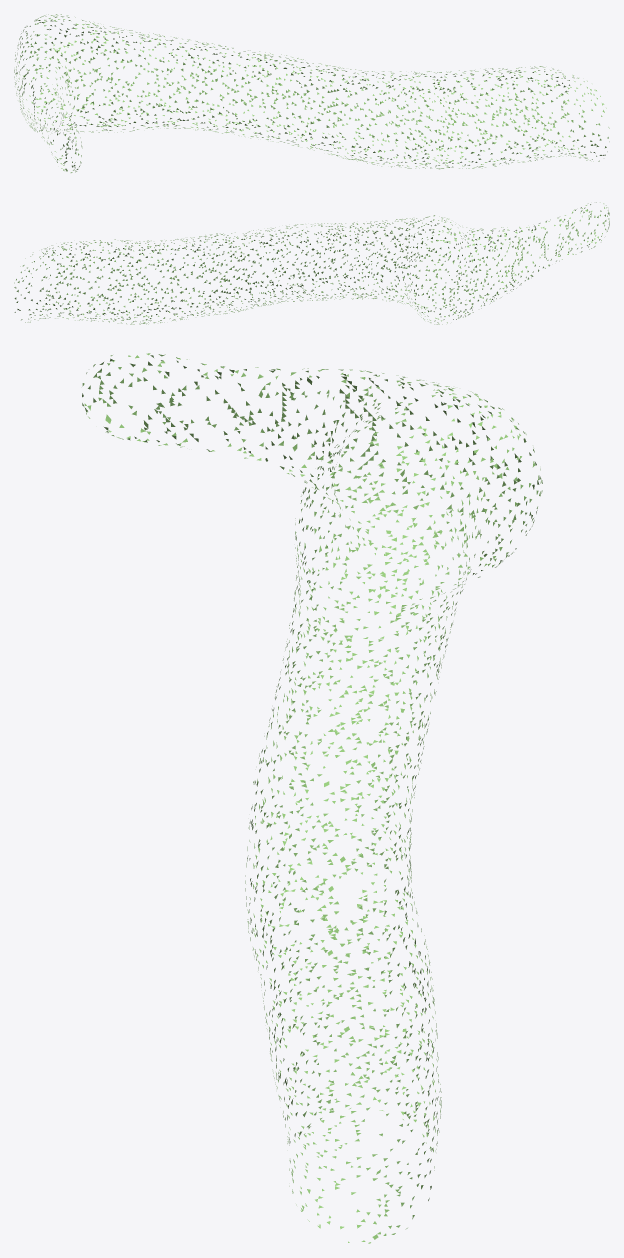
Rendered from morph_014.glb.
3 views of the same model, one above another, from view 1: azimuth 30°, elevation 25°; view 2: azimuth 150°, elevation 25°; view 3: azimuth 270°, elevation 25° (orthographic). The views are drawn at different scales.
Size of the model in its own units: 157 by 62.14 by 61.11.
